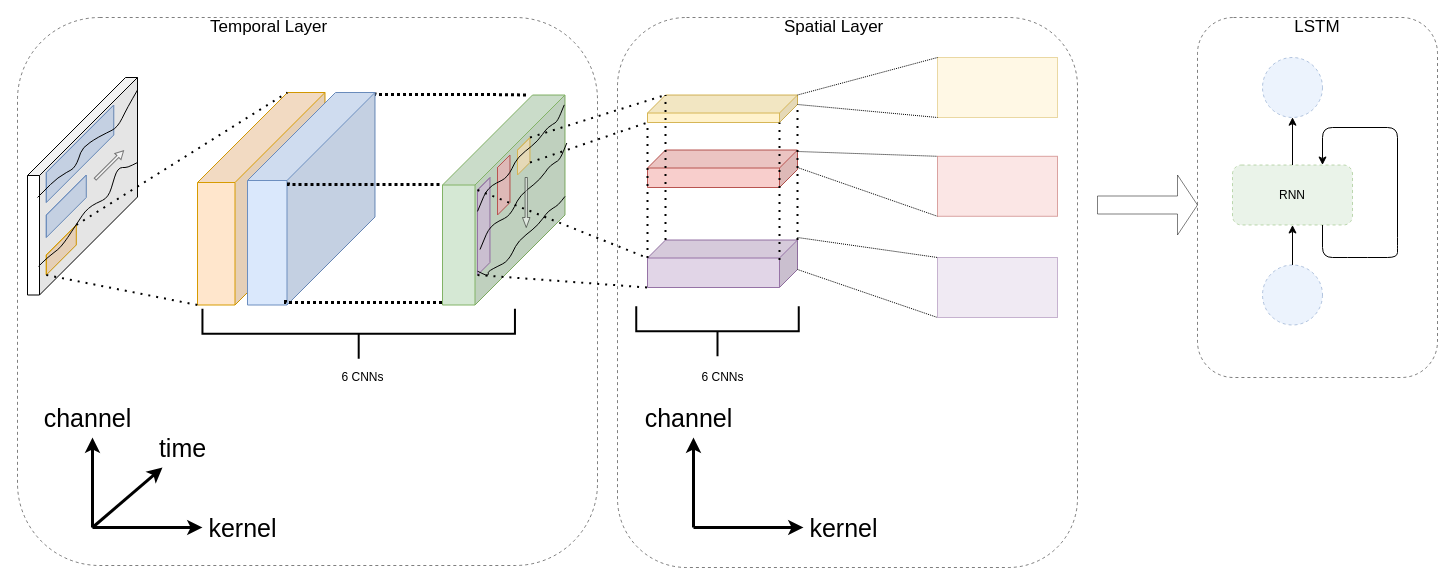
This 1455x585 diagram has some shape labels left out. Here are the shapes that lost their labels. From the top down, the centre of each, then its label:
At (1292,87): "output".
At (1292,294): "input".
